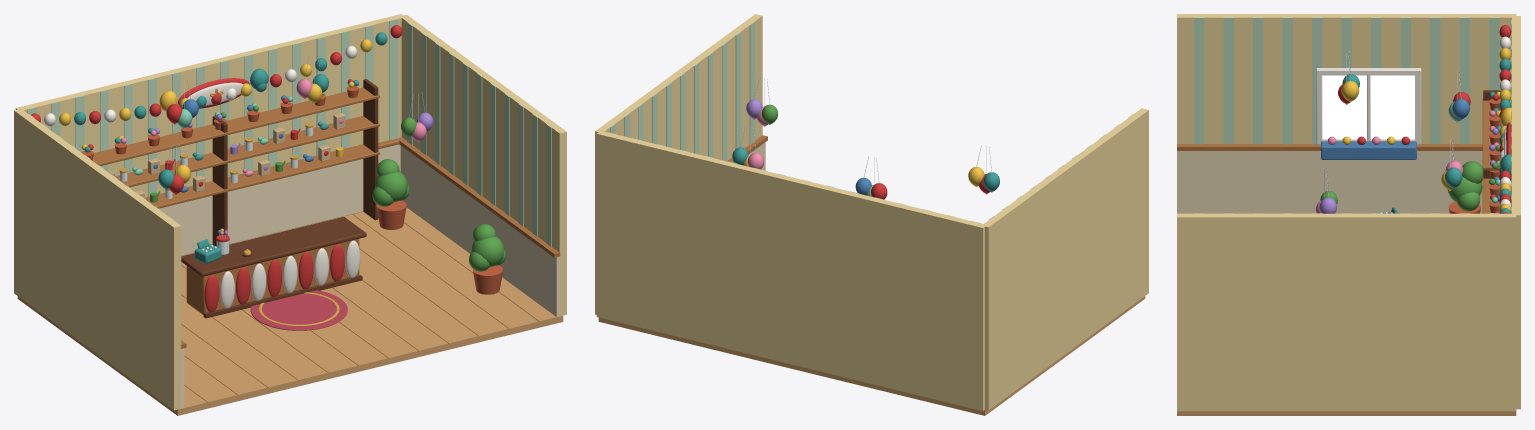
File: tool-shop.glb
3 views of the same model, side by side, from view 1: azimuth 30°, elevation 25°; view 2: azimuth 150°, elevation 25°; view 3: azimuth 270°, elevation 25° (orthographic). The views are drawn at different scales.
Visible parts, largest first — view 1: shop floor, side wall L, back wall, side wall R, back wainscot, side wainscot R, counter top, shelf board 2, shelf board 1, shop rug, shelf board 0, counter body (+29 smaller); view 2: back wall, side wall L, side wall R, shop floor, side stripe R 9, side stripe R 10, side stripe R 8, side stripe R 7, side stripe R 6; view 3: side wall R, side wall L, side wainscot L, window glass, back wall, shop floor, window box, side chair rail L, side stripe L 10, side stripe L 2, side stripe L 7, side stripe L 8 (+14 smaller).
Boxes of the visible parts, <box> form: shop floor: <box>17,207,563,415</box>; side wall L: <box>14,109,181,410</box>; back wall: <box>15,14,404,197</box>; side wall R: <box>401,14,566,316</box>; back wainscot: <box>159,144,400,255</box>; side wainscot R: <box>400,146,560,316</box>; counter top: <box>181,217,366,276</box>; shelf board 2: <box>92,87,379,165</box>; shelf board 1: <box>115,116,379,187</box>; shop rug: <box>250,290,347,330</box>; shelf board 0: <box>145,144,379,208</box>; counter body: <box>186,238,359,314</box>; back wall: <box>596,131,986,410</box>; side wall L: <box>982,108,1148,410</box>; side wall R: <box>595,14,762,314</box>; shop floor: <box>598,296,1145,415</box>; side stripe R 9: <box>735,32,741,148</box>; side stripe R 10: <box>749,21,755,144</box>; side stripe R 8: <box>722,42,727,161</box>; side stripe R 7: <box>708,52,713,157</box>; side stripe R 6: <box>694,62,699,154</box>; side wall R: <box>1177,213,1516,411</box>; side wall L: <box>1177,14,1516,143</box>; side wainscot L: <box>1177,151,1482,213</box>; window glass: <box>1322,75,1415,138</box>; back wall: <box>1512,16,1520,409</box>; shop floor: <box>1177,213,1516,415</box>; window box: <box>1321,141,1416,159</box>; side chair rail L: <box>1177,144,1482,150</box>; side stripe L 10: <box>1194,17,1204,144</box>; side stripe L 2: <box>1430,17,1440,144</box>; side stripe L 7: <box>1282,17,1292,144</box>; side stripe L 8: <box>1253,17,1263,144</box>.
Bounding box in the file's own units: 6.52 × 3.25 × 4.66.
